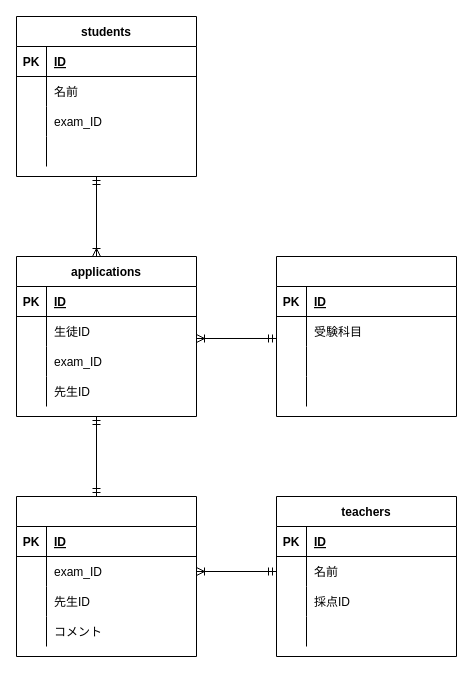
Image size: 473x673. Some labels were removed from this diagram. The shapes that lost their labels are listed below. From the top down, each one's box as (x1, y1, x2, y2) in pixels, then its label:
(276, 256, 456, 416): exams
(16, 496, 196, 656): scores
